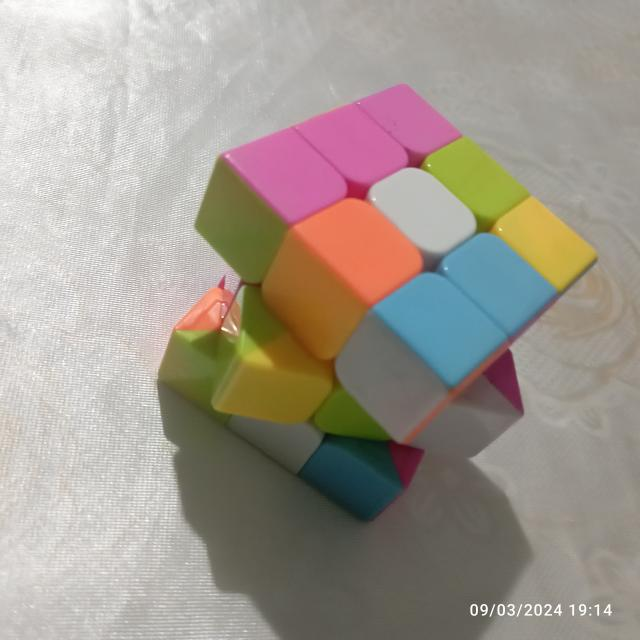Rub: (152, 71, 603, 534)
